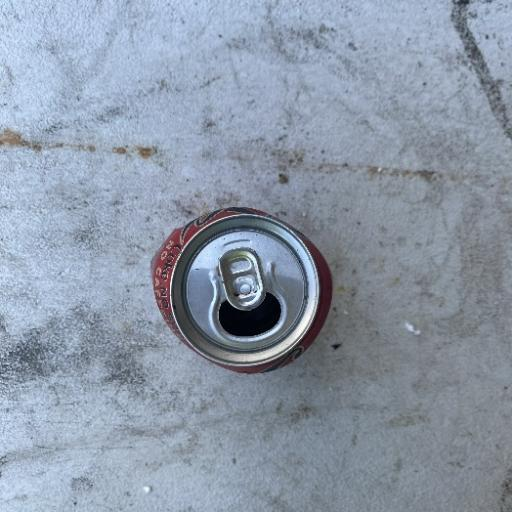Metal: (149, 204, 333, 375)
